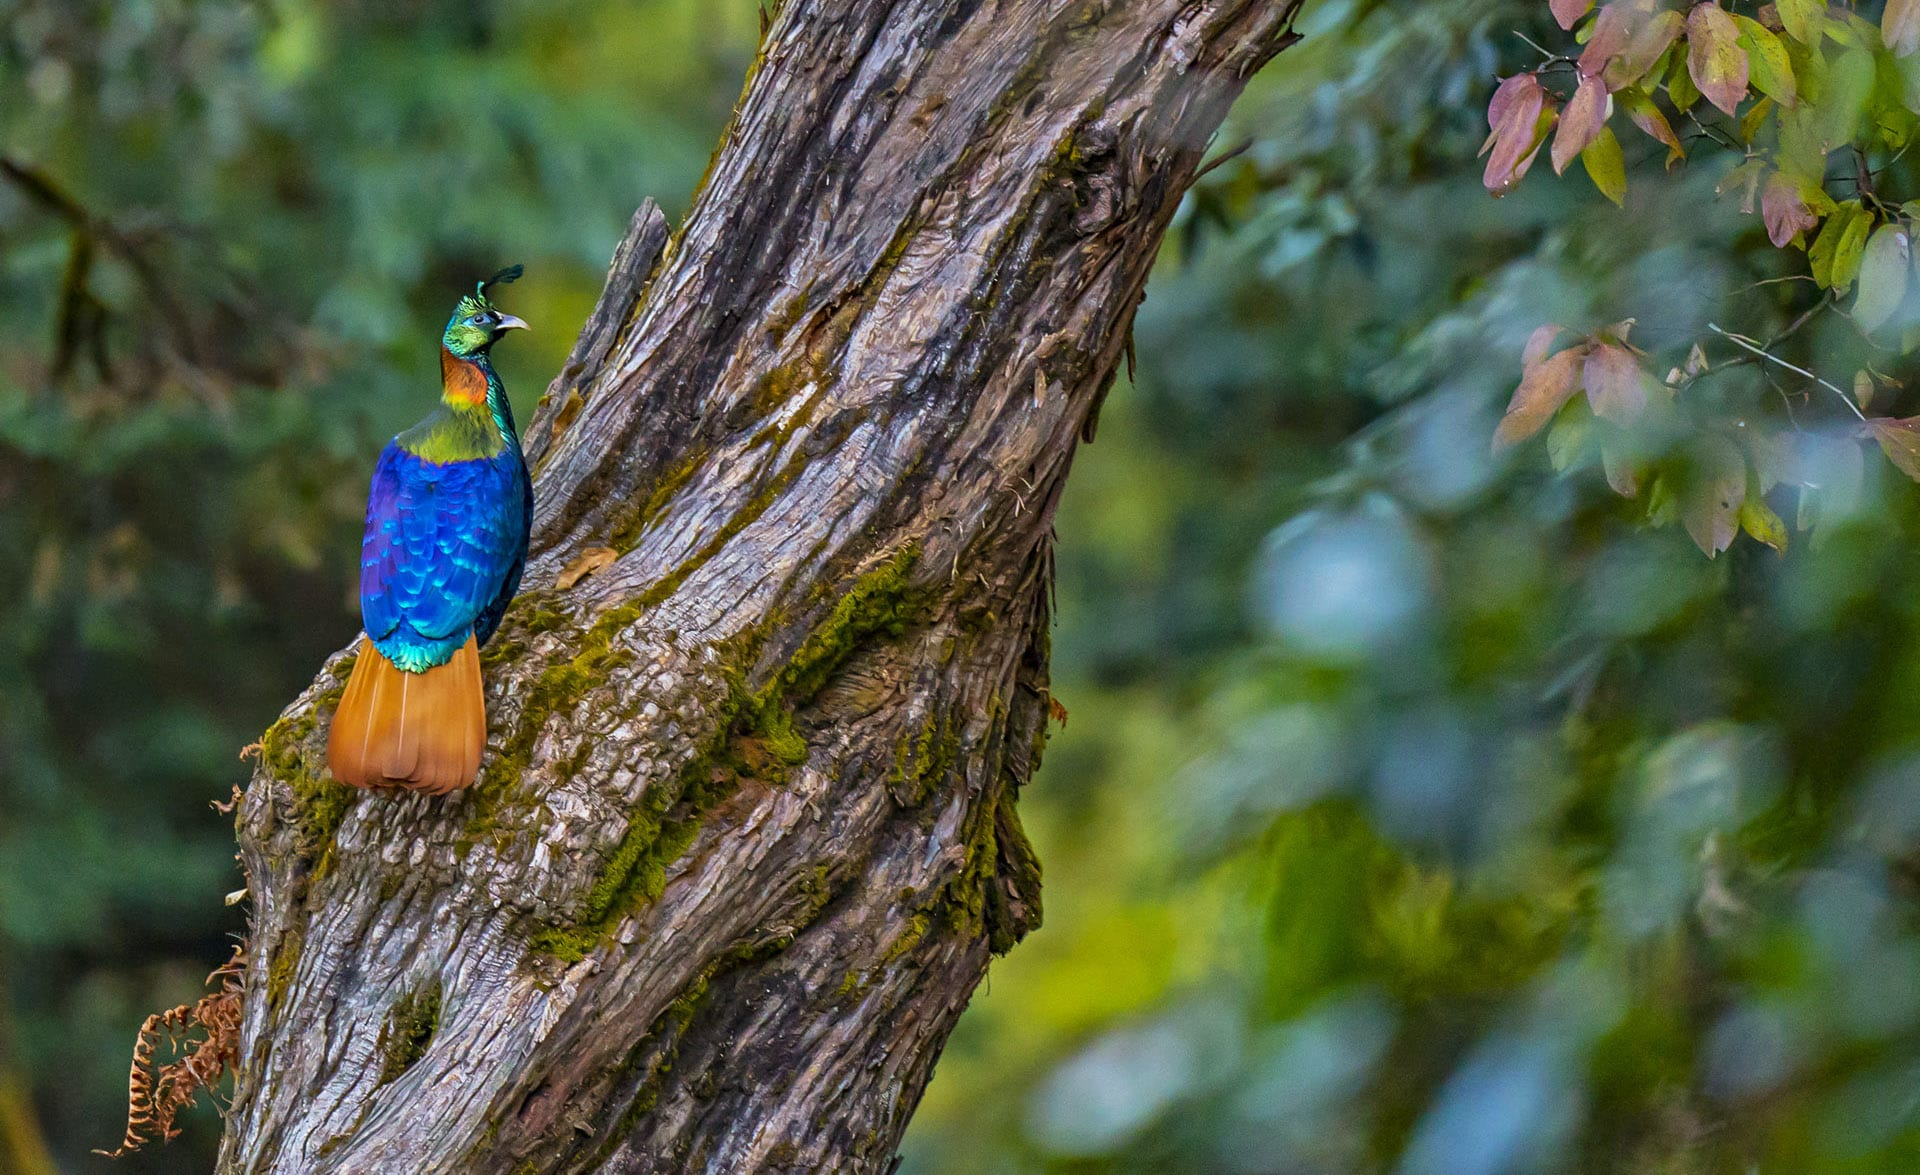bird: (314, 233, 580, 851)
